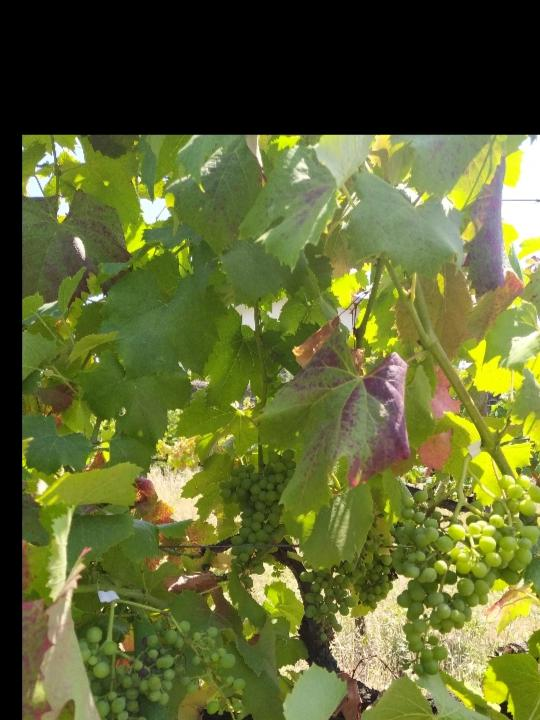grape: (390, 474, 540, 678), (26, 619, 255, 720), (220, 448, 302, 584)
